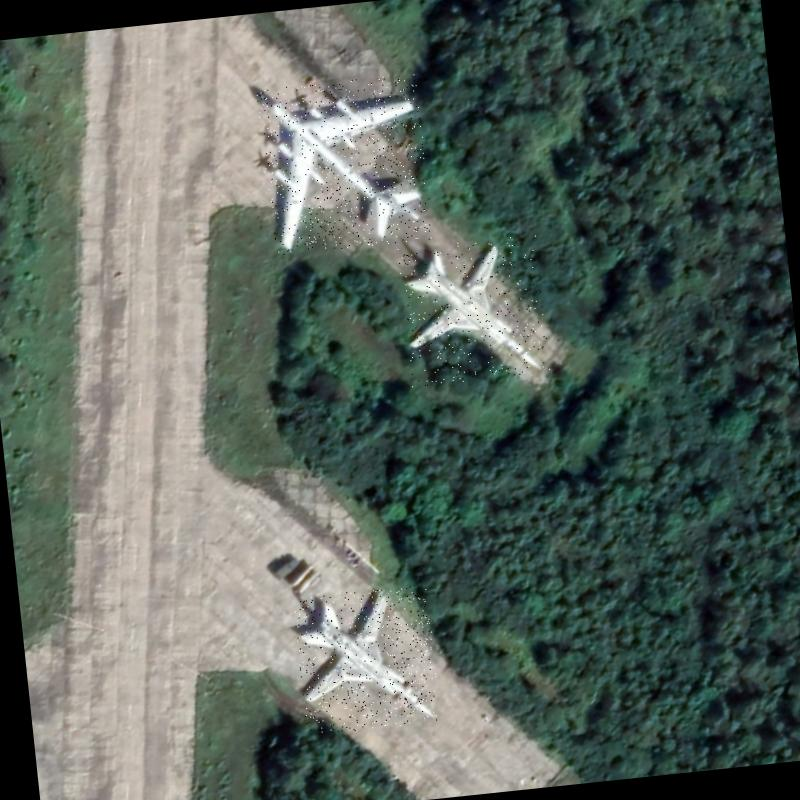A12: (397, 234, 550, 387), (292, 584, 441, 736)
A17: (255, 72, 434, 255)
